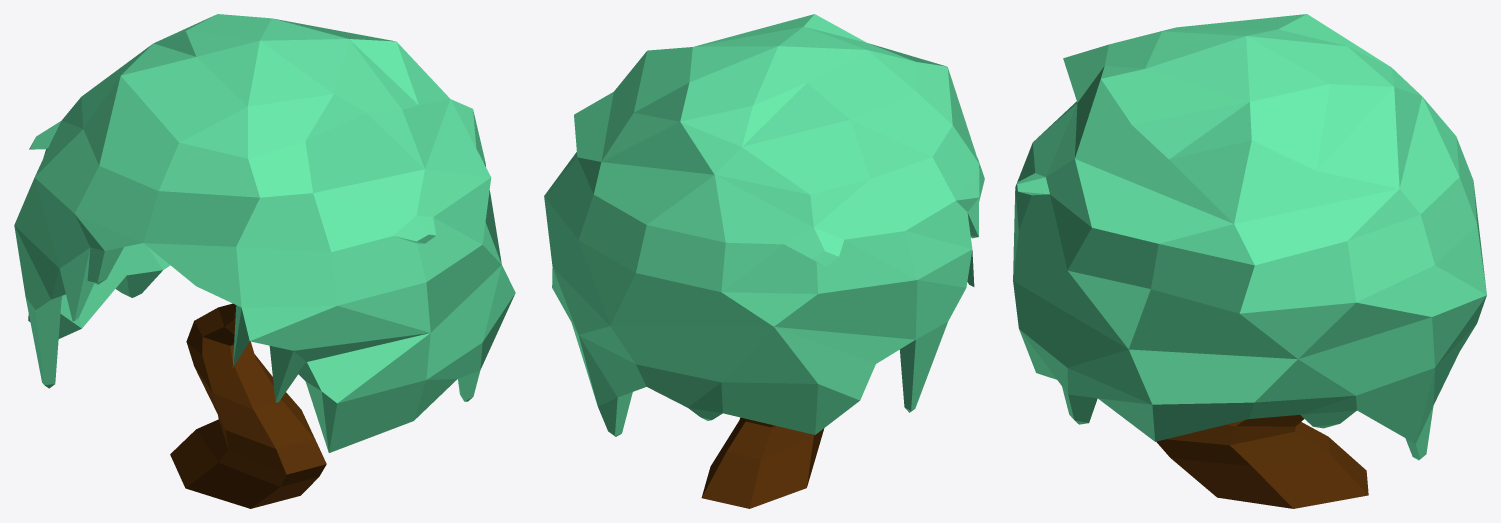
File: GEO_tree_turtle.fbx
3 renders of one model, left to right at view 1: azimuth 30°, elevation 25°; view 2: azimuth 150°, elevation 25°; view 3: azimuth 270°, elevation 25°, orthographic. The views are drawn at different scales.
Parts seen in each view (by area): view 1: GEO_tree_turtle; view 2: GEO_tree_turtle; view 3: GEO_tree_turtle.
Boxes of the visible parts, x1,y1,x2,y2 form: GEO_tree_turtle: (14,14,515,508); GEO_tree_turtle: (544,14,984,508); GEO_tree_turtle: (1013,14,1486,508).
Size of the model in its own units: 417 by 420 by 402.
